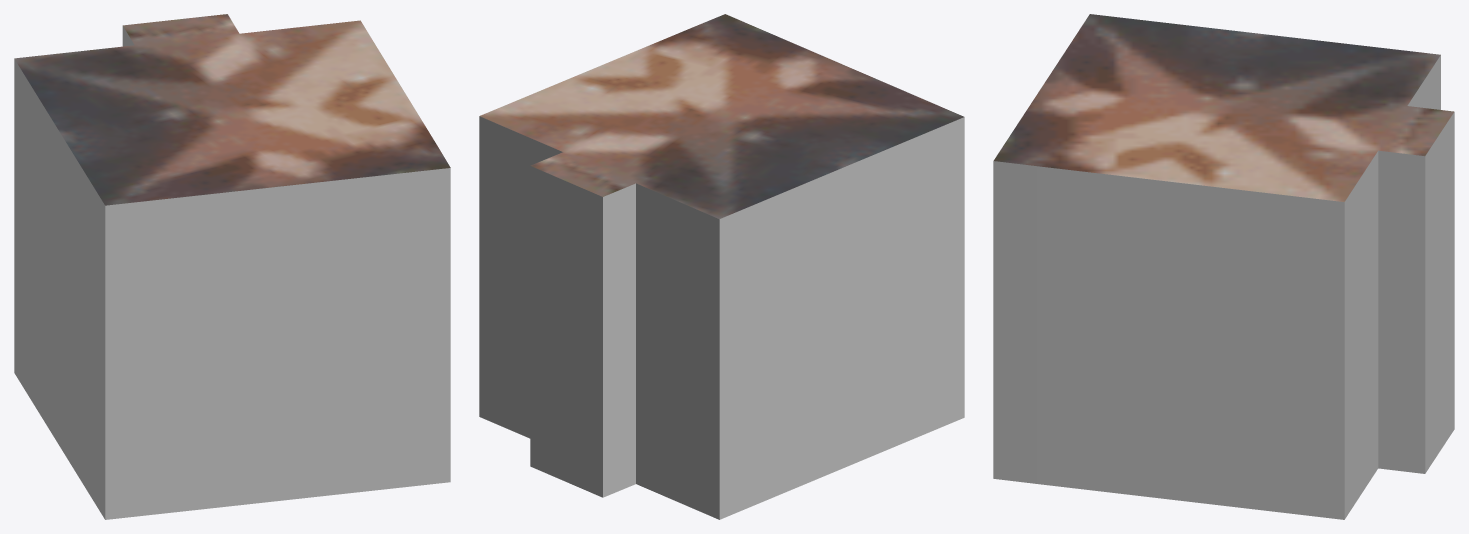
The model's file is DEBW_0010007Txjm.gltf.
The picture shows the model from 3 angles, left to right: view 1: azimuth 30°, elevation 25°; view 2: azimuth 150°, elevation 25°; view 3: azimuth 270°, elevation 25°; orthographic projection. The views are drawn at different scales.
Parts seen in each view (by area): view 1: Z_UP; view 2: Z_UP; view 3: Z_UP.
Boxes of the visible parts, box(x1,y1,x2,y2) form: Z_UP: box(14, 14, 450, 519); Z_UP: box(479, 14, 964, 519); Z_UP: box(993, 14, 1454, 519).
Bounding box in the file's own units: 13.48 × 10.62 × 13.96.
2 materials, 1 textured.
